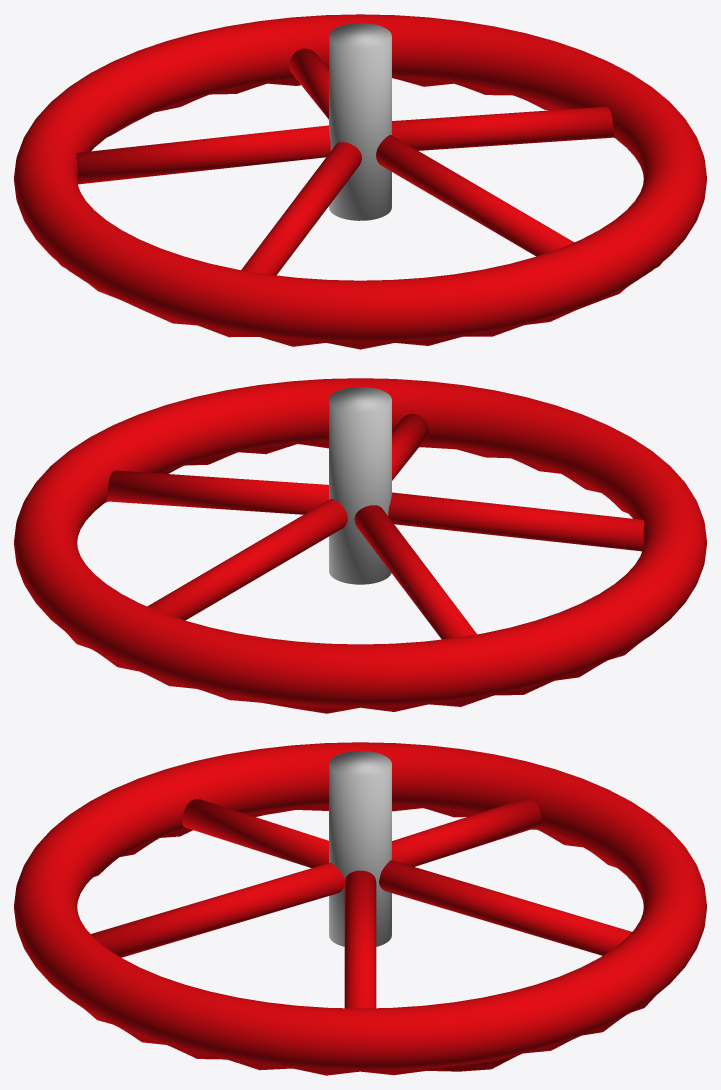
The model's file is valvered.fbx.
3 renders of one model, top to bottom at view 1: azimuth 30°, elevation 25°; view 2: azimuth 150°, elevation 25°; view 3: azimuth 270°, elevation 25°, orthographic.
Parts seen in each view (by area): view 1: Torus.001, Center_Cylinder, Spoke_3, Spoke_1, Spoke_5, Spoke_4, Spoke_2; view 2: Torus.001, Center_Cylinder, Spoke_4, Spoke_1, Spoke_2, Spoke_3, Spoke_5; view 3: Torus.001, Center_Cylinder, Spoke_2, Spoke_5, Spoke_3, Spoke_4, Spoke_1.
Part boxes in pixels (<box>): Torus.001: <box>14,14,706,349</box>; Center_Cylinder: <box>329,23,391,220</box>; Spoke_3: <box>76,125,330,184</box>; Spoke_1: <box>392,106,614,150</box>; Spoke_5: <box>376,135,573,256</box>; Spoke_4: <box>241,142,361,275</box>; Spoke_2: <box>289,48,328,119</box>; Torus.001: <box>14,378,706,713</box>; Center_Cylinder: <box>329,386,391,584</box>; Spoke_4: <box>388,492,644,551</box>; Spoke_1: <box>106,470,328,514</box>; Spoke_2: <box>147,498,347,620</box>; Spoke_3: <box>354,505,476,639</box>; Spoke_5: <box>392,413,428,480</box>; Torus.001: <box>14,742,706,1075</box>; Center_Cylinder: <box>329,751,391,946</box>; Spoke_2: <box>379,860,631,955</box>; Spoke_5: <box>91,862,344,957</box>; Spoke_3: <box>392,798,541,866</box>; Spoke_4: <box>182,799,328,868</box>; Spoke_1: <box>344,870,376,1008</box>.
Bounding box in the file's own units: 220 × 63.68 × 220.
